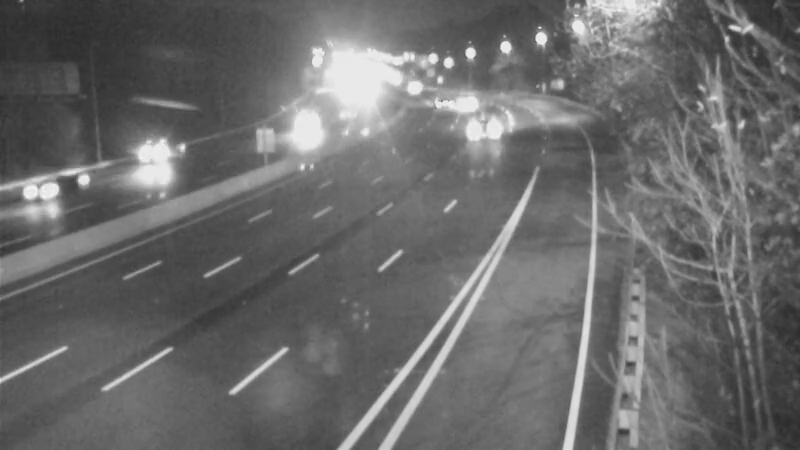vehicle: (121, 117, 201, 197), (1, 152, 79, 232), (438, 76, 488, 126), (458, 100, 508, 150), (281, 108, 331, 158)
